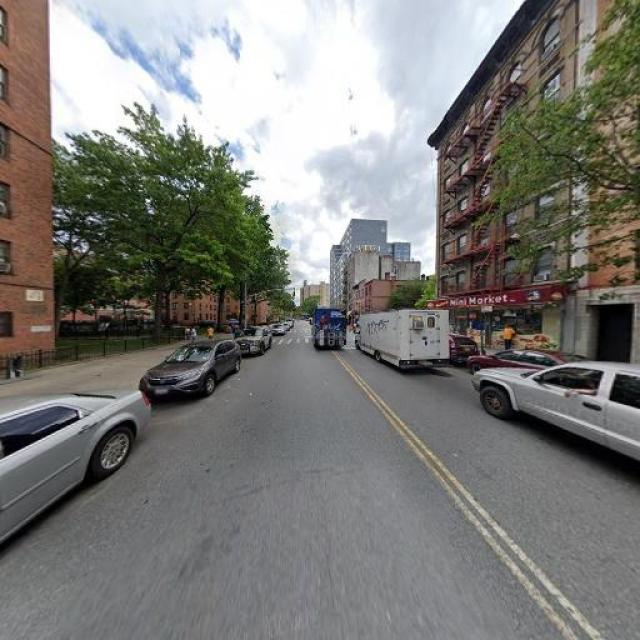Building: (437, 1, 569, 369), (575, 1, 640, 383), (1, 1, 48, 369)
